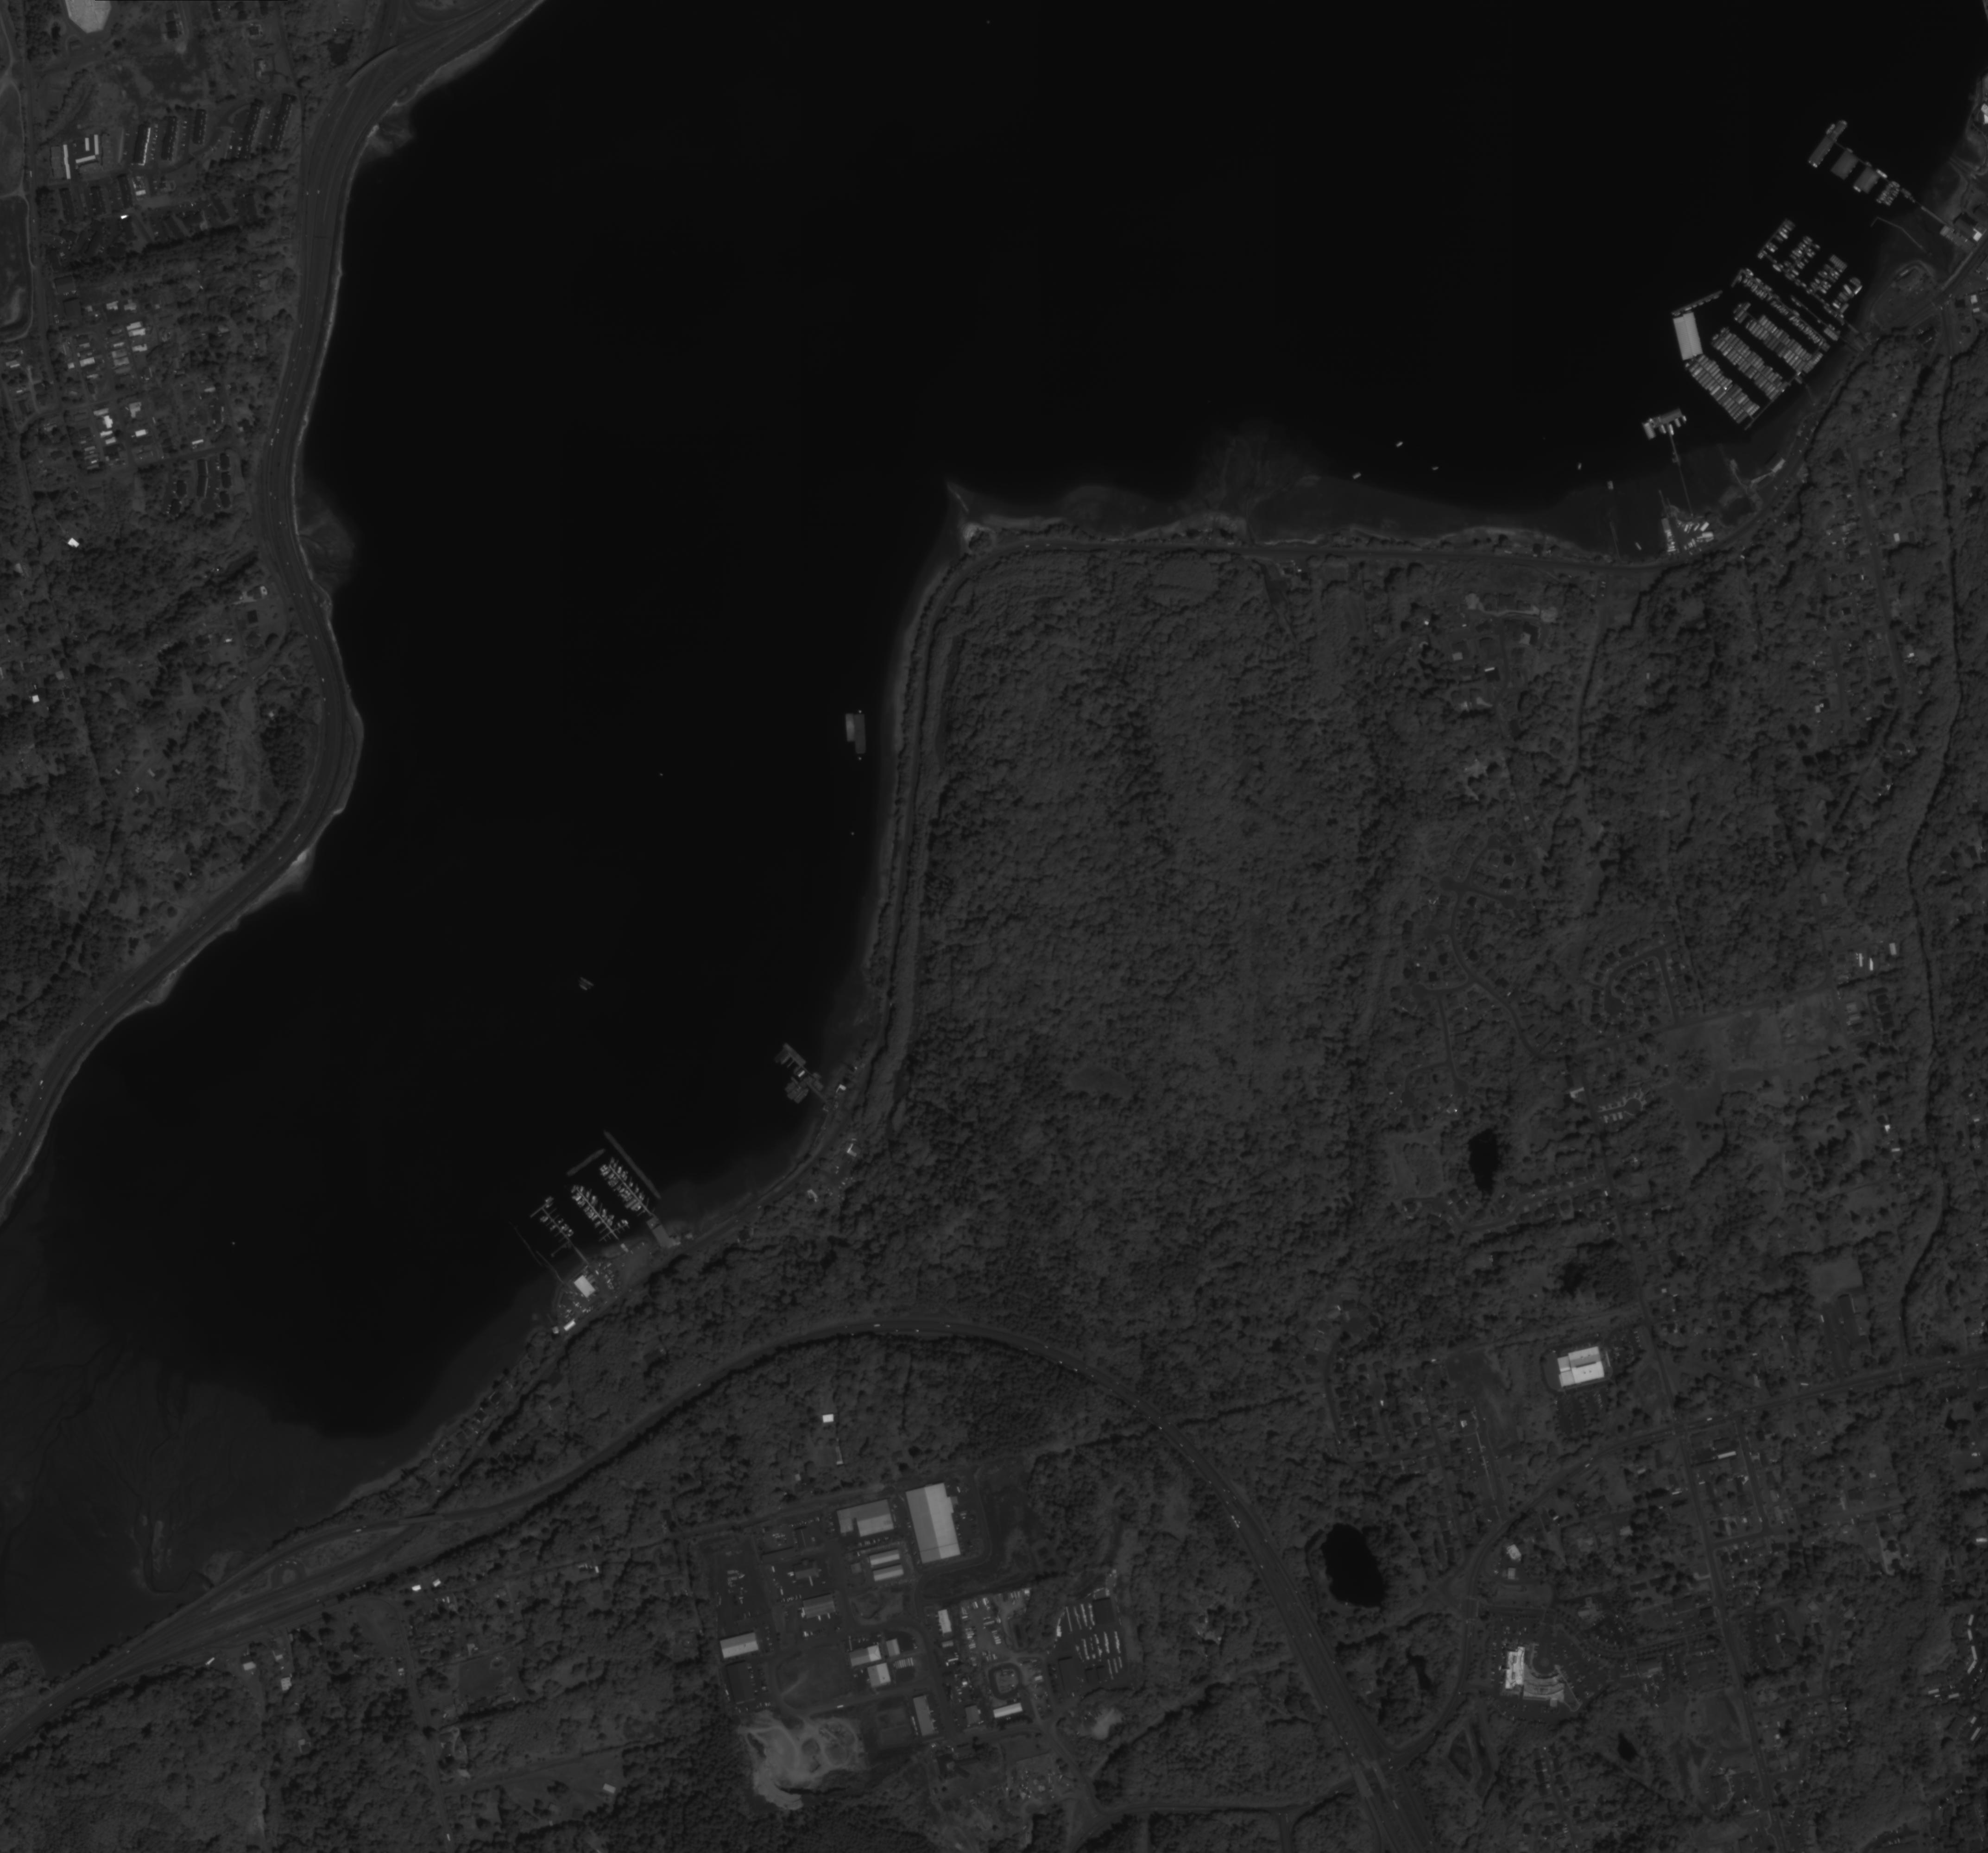harbor: (1800, 110, 1946, 235), (1751, 209, 1878, 331), (1716, 263, 1835, 383), (1641, 406, 1707, 524), (1683, 347, 1768, 434), (1707, 320, 1793, 406), (526, 1193, 603, 1278), (566, 1174, 638, 1254), (596, 1149, 662, 1228)
